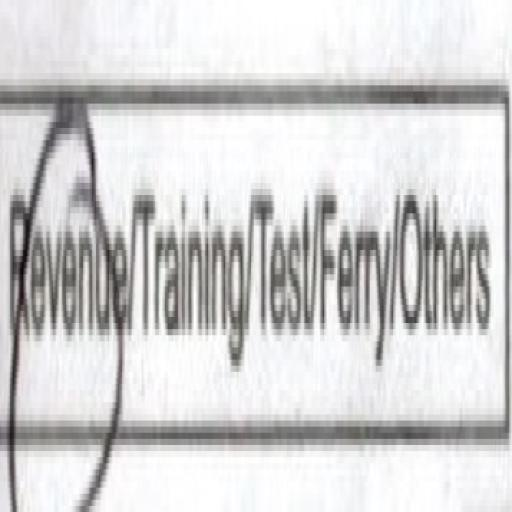check: (0, 12, 131, 512)
